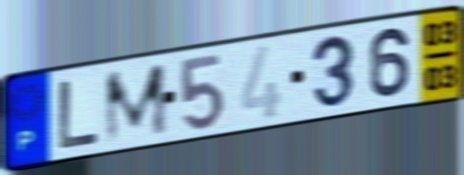3: (307, 32, 362, 111)
4: (238, 43, 286, 122)
5: (177, 50, 229, 133)
6: (367, 25, 414, 101)
L: (57, 77, 103, 152)
M: (102, 59, 172, 147)
